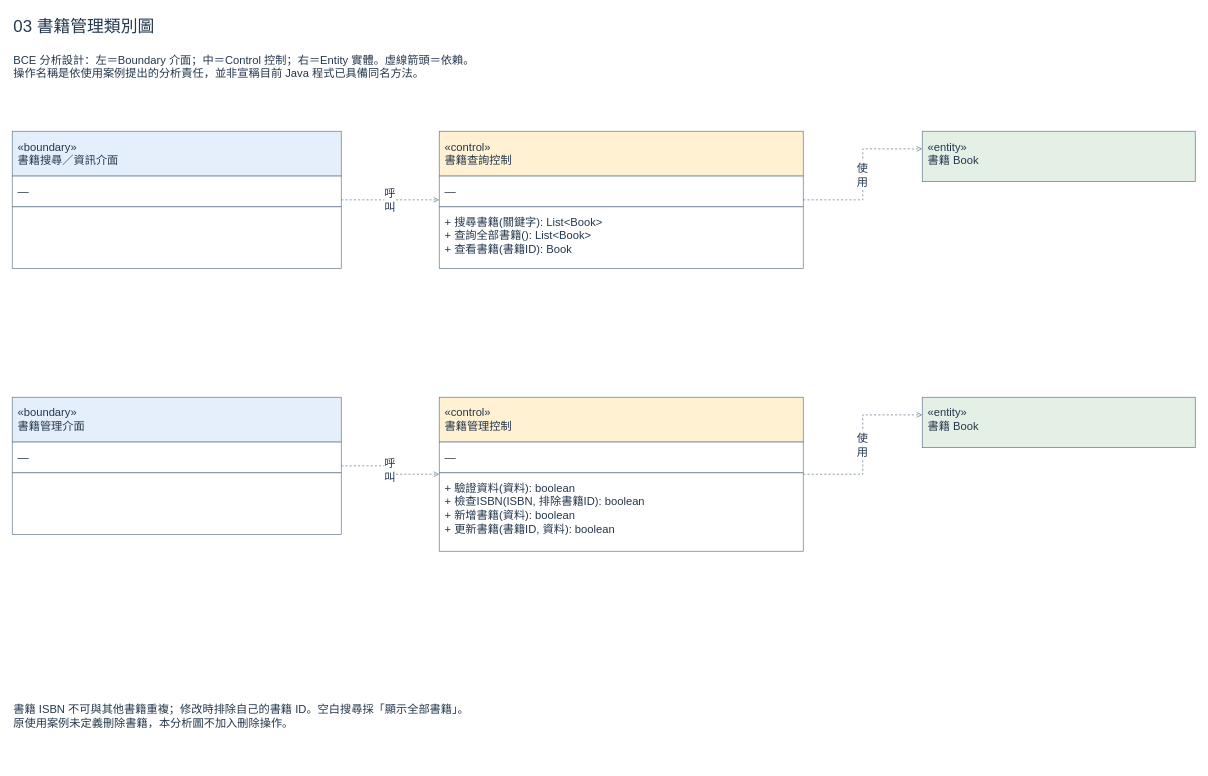
Image size: 1208x776. Some labels were removed from this diagram. Here are the shapes that lost their labels. From the top down, the box of each, then its label:
(12, 206, 341, 268): + 送出搜尋條件() + 顯示搜尋結果() + 顯示書籍資訊與庫存()
(12, 472, 341, 534): + 顯示書籍列表() + 顯示新增／修改表單() + 送出書籍資料()
